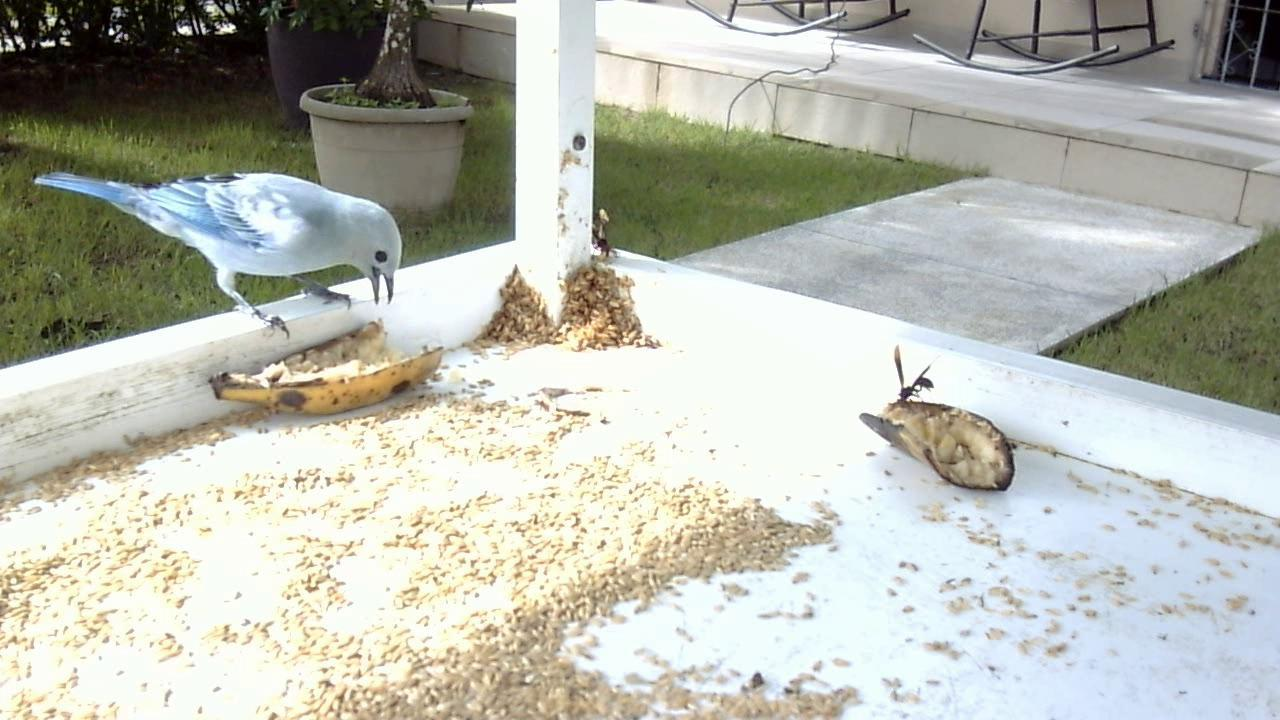sanhaco_da_amazonia: (31, 160, 400, 343)
